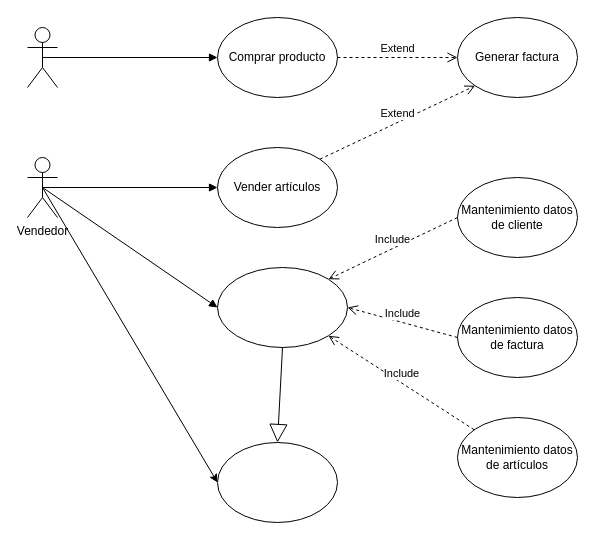
The diagram is 595 pixels wide and 540 high, and some of its shapes have lost their labels. Each missing label, with the centre of its shape:
Almacenar datos del cliente: point 277,482
Cliente: point 42,57
Mantenimiento de datos: point 282,307
